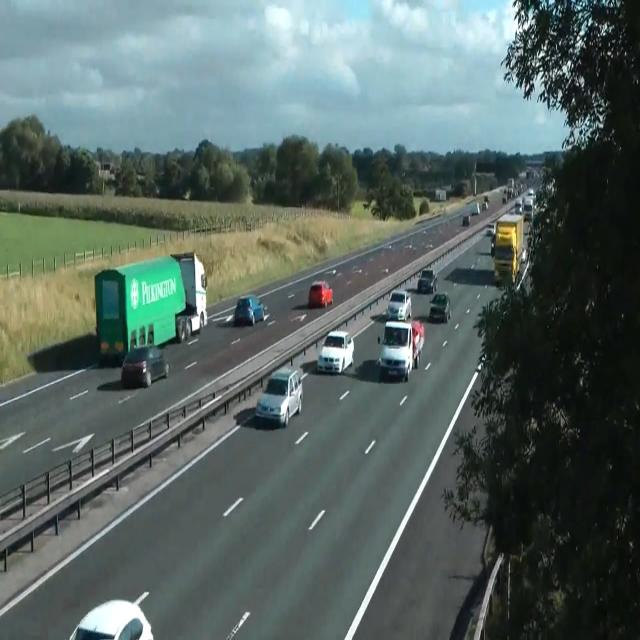bus: (68, 590, 154, 639), (120, 344, 170, 388), (234, 295, 264, 325), (411, 319, 425, 369), (476, 353, 488, 372), (469, 201, 480, 215), (490, 233, 496, 257), (514, 199, 522, 214), (487, 221, 495, 235), (462, 213, 470, 226), (521, 247, 527, 263), (482, 201, 488, 210), (502, 196, 506, 203)
car: (514, 188, 536, 222)
jeep: (255, 366, 303, 428), (317, 329, 354, 374), (385, 289, 411, 320), (428, 290, 451, 322), (308, 279, 333, 308), (417, 268, 437, 294)
minibus: (94, 251, 208, 366), (170, 250, 208, 340), (377, 318, 425, 382), (490, 212, 524, 286), (434, 188, 446, 201)
